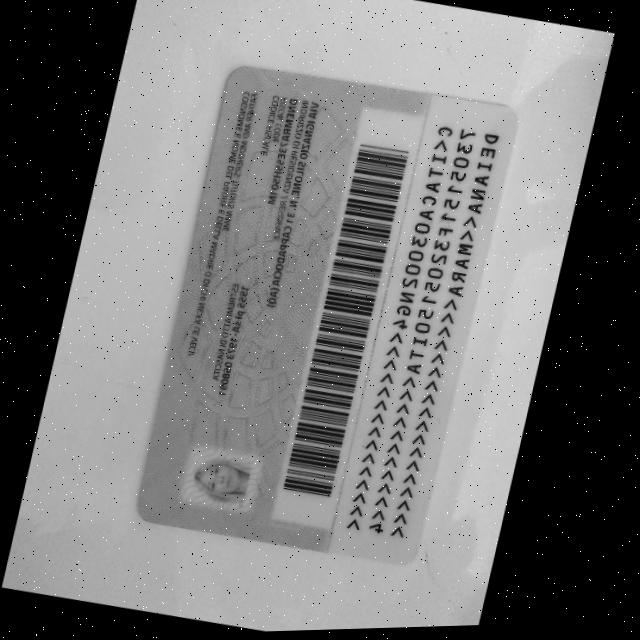card: (138, 68, 515, 563)
